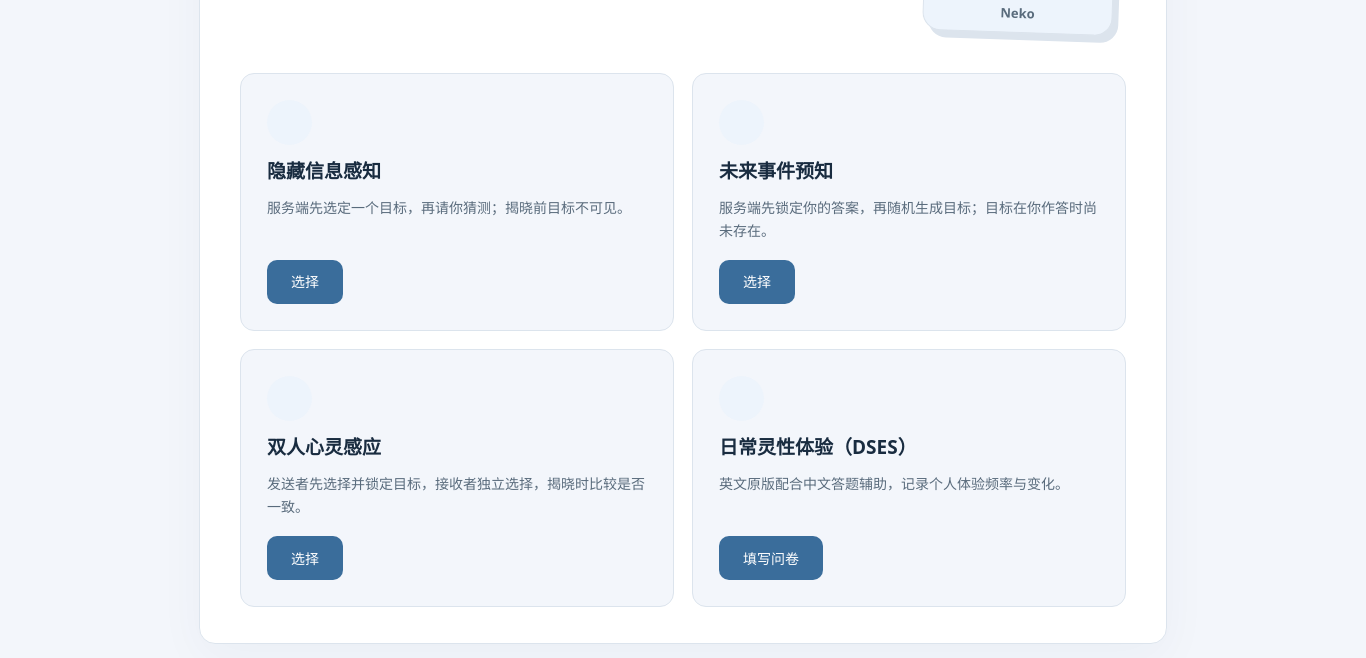
v2 terminal history persistence › writes a completed snapshot to the independent v2 store, not v1
(page scrolled)
Step 1. Click the button "选择" below "服务端先选定一个目标，再请你猜测；揭晓前目标不可见。" → {"x": 305, "y": 282}, box [267, 260, 343, 304]
(page scrolled)
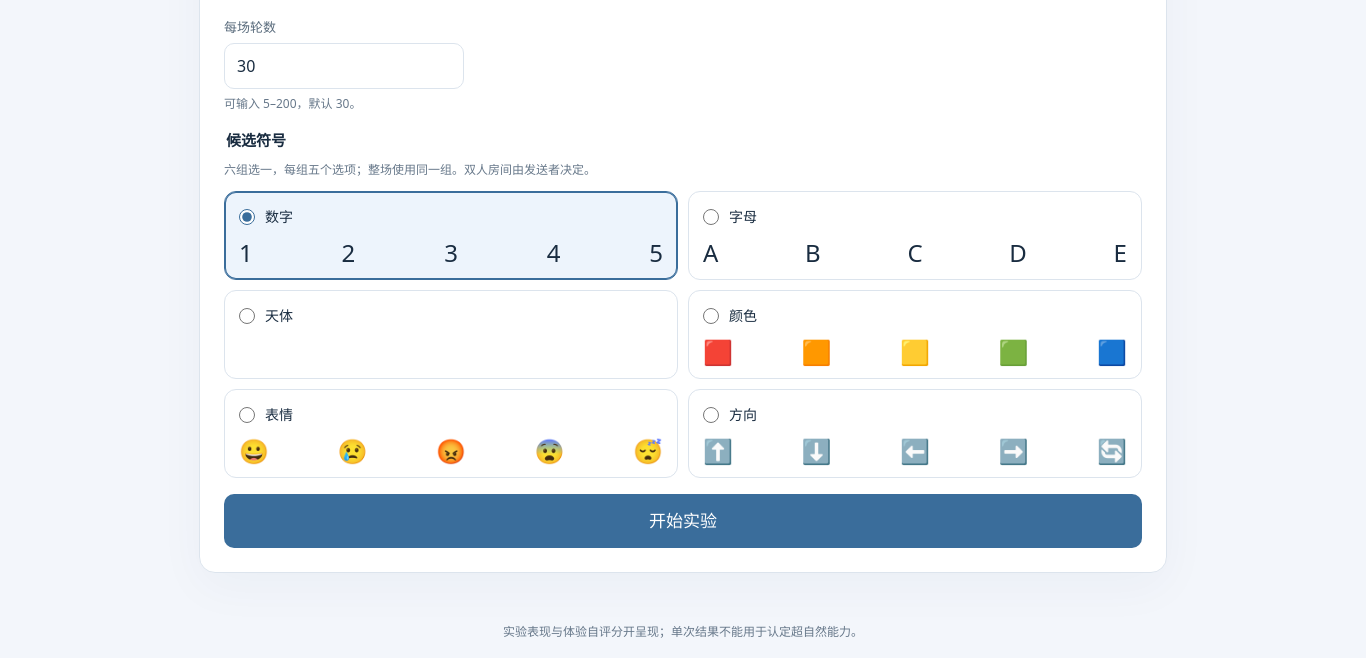
Step 2. Click the button "开始实验" → {"x": 683, "y": 521}, box [224, 494, 1142, 548]
(page scrolled)
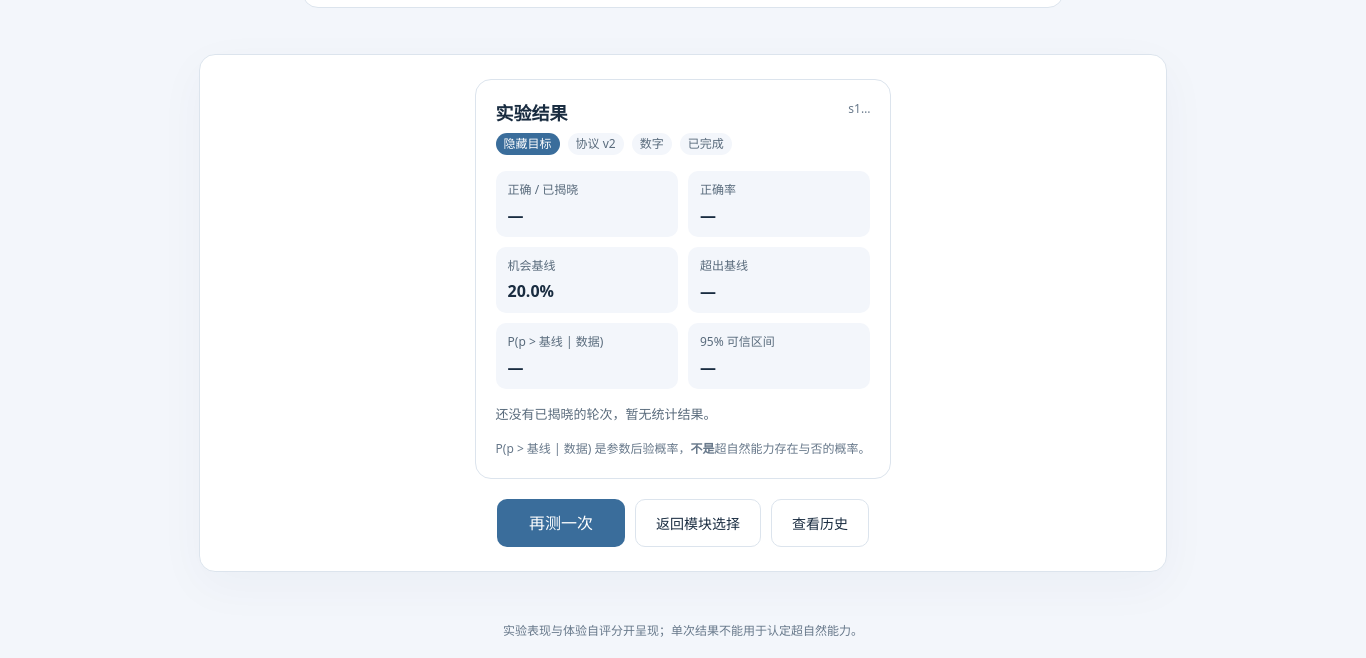
expect the heading "实验结果" is shown: met, box [496, 101, 568, 125]
